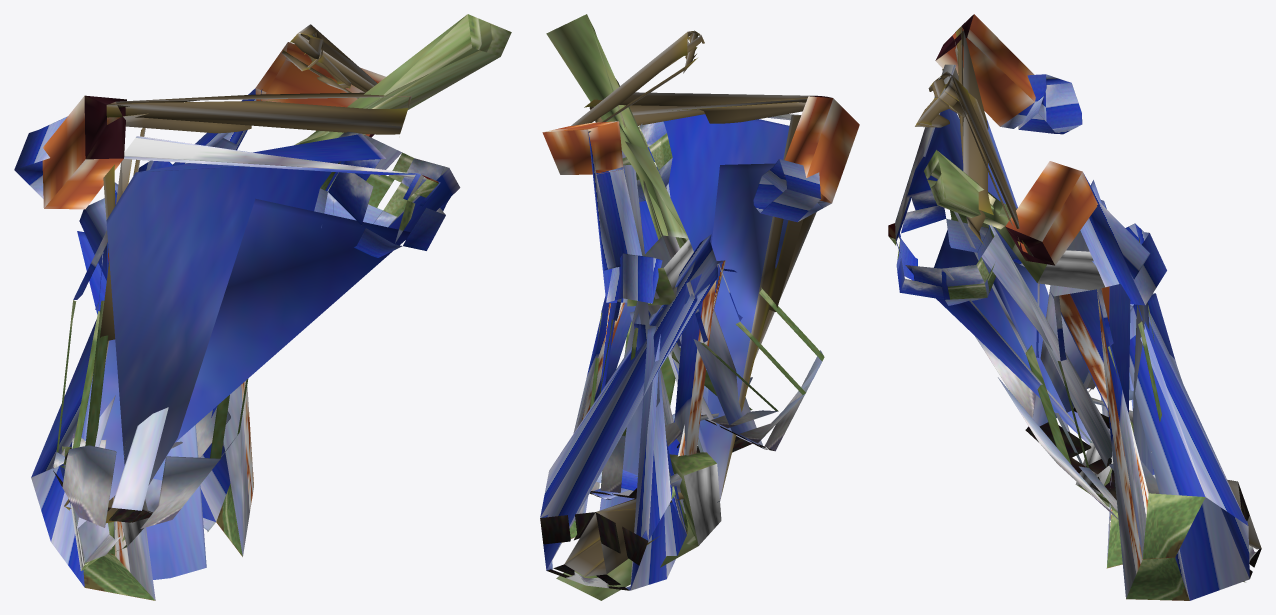
The picture shows the model from 3 angles, left to right: view 1: azimuth 30°, elevation 25°; view 2: azimuth 150°, elevation 25°; view 3: azimuth 270°, elevation 25°; orthographic projection. The views are drawn at different scales.
Visible parts, largest first — view 1: T1L9M003_5; view 2: T1L9M003_5; view 3: T1L9M003_5.
Part boxes in pixels (box(x1,y1,x2,y2)): T1L9M003_5: box(14, 14, 511, 600); T1L9M003_5: box(540, 14, 859, 600); T1L9M003_5: box(888, 14, 1261, 600).
Size of the model in its own units: 0.8957 by 1.26 by 0.808.
